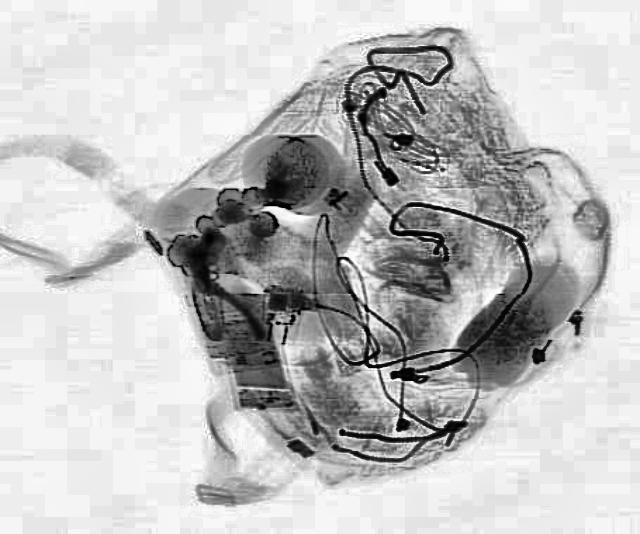Pliers: (161, 241, 265, 353)
